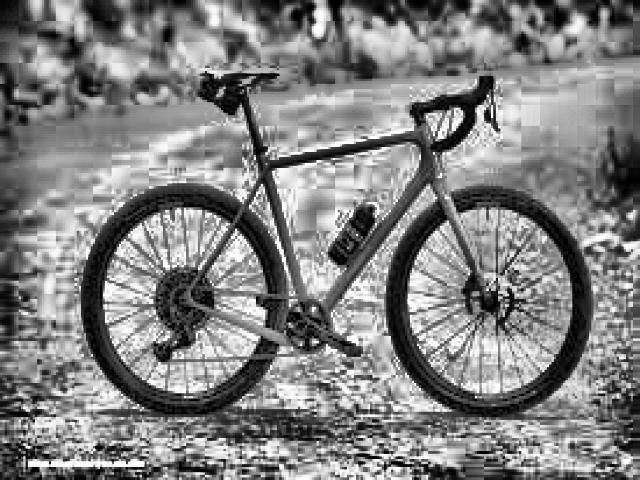cassette: (154, 265, 216, 336)
cranks_set: (282, 296, 360, 356)
pedal: (343, 344, 362, 356)
rear_derailleur: (150, 314, 198, 364)
saddle: (202, 65, 282, 89)
sti_shifter: (478, 68, 506, 136)
wheel: (386, 186, 594, 418), (82, 183, 288, 414)
